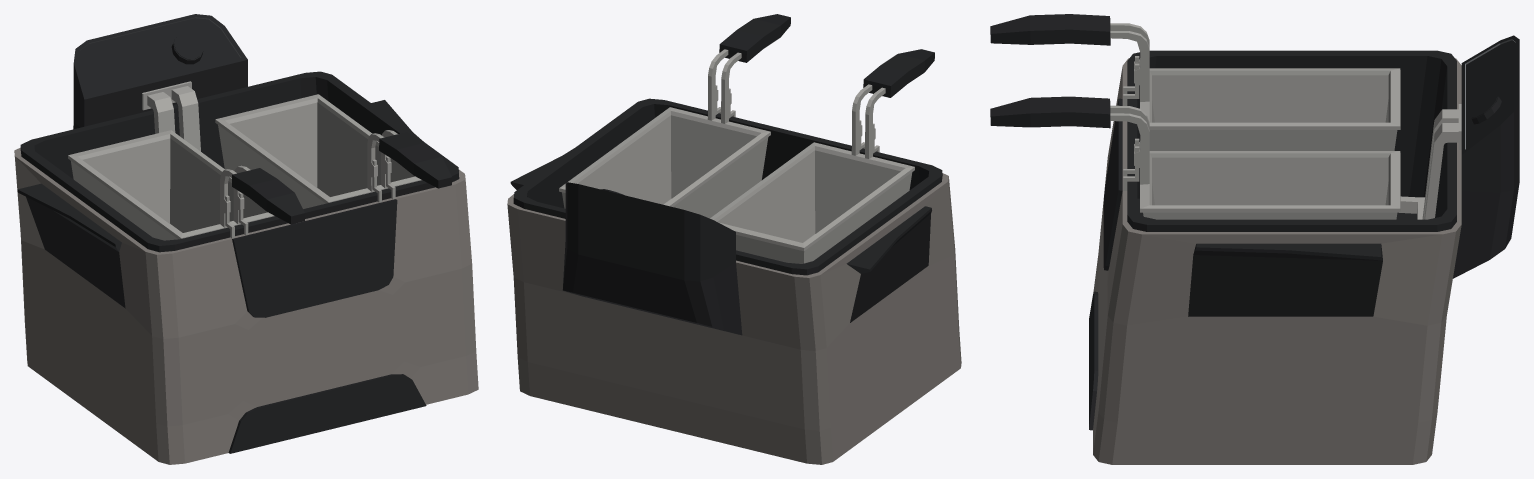
File: deepfryer_01_A.gltf
The picture shows the model from 3 angles, left to right: view 1: azimuth 30°, elevation 25°; view 2: azimuth 150°, elevation 25°; view 3: azimuth 270°, elevation 25°; orthographic projection. The views are drawn at different scales.
Parts seen in each view (by area): view 1: deepfryer_01_A, sievefordeepfryer_02_A, sievefordeepfryer_01_A, Buttonfordeepfryer_01_A; view 2: deepfryer_01_A, sievefordeepfryer_01_A, sievefordeepfryer_02_A; view 3: deepfryer_01_A, sievefordeepfryer_01_A, sievefordeepfryer_02_A, Buttonfordeepfryer_01_A.
Part boxes in pixels (x1,y1,x2,y2): deepfryer_01_A: [14, 14, 478, 464]; sievefordeepfryer_02_A: [215, 94, 452, 208]; sievefordeepfryer_01_A: [68, 130, 304, 240]; Buttonfordeepfryer_01_A: [171, 33, 203, 64]; deepfryer_01_A: [507, 98, 961, 464]; sievefordeepfryer_01_A: [710, 49, 934, 263]; sievefordeepfryer_02_A: [559, 14, 790, 218]; deepfryer_01_A: [1089, 35, 1519, 464]; sievefordeepfryer_01_A: [990, 14, 1400, 150]; sievefordeepfryer_02_A: [990, 96, 1400, 219]; Buttonfordeepfryer_01_A: [1469, 94, 1501, 124].
Size of the model in its own units: 0.575 by 0.4175 by 0.6241.
Materials: 1 (1 with a texture image).
